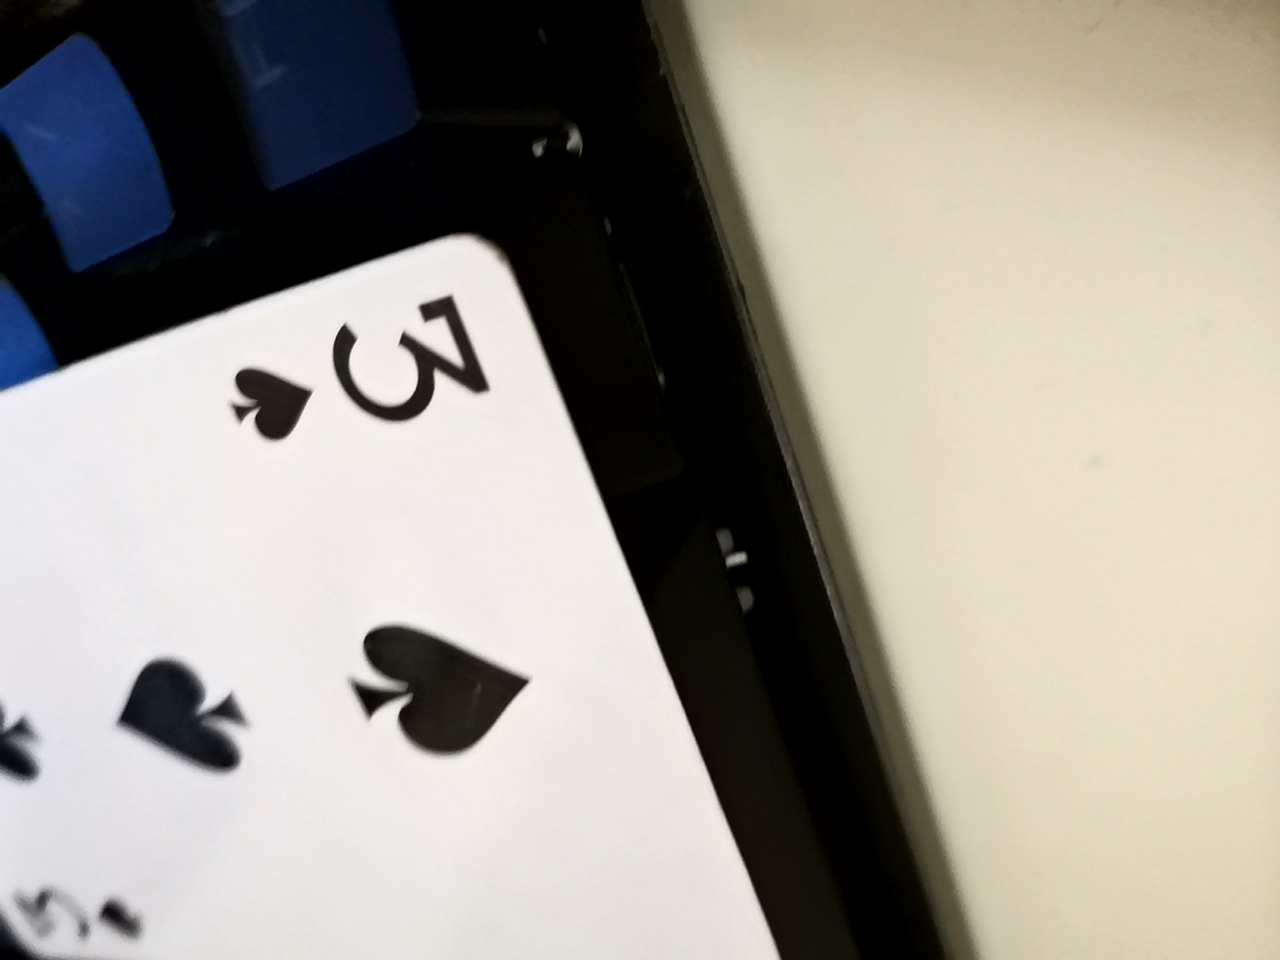ht 3: (7, 301, 818, 957)
